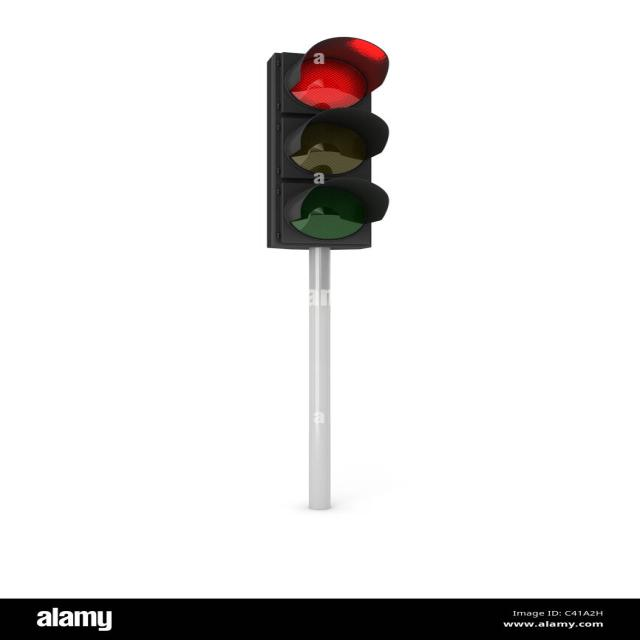red: (278, 54, 384, 114)
